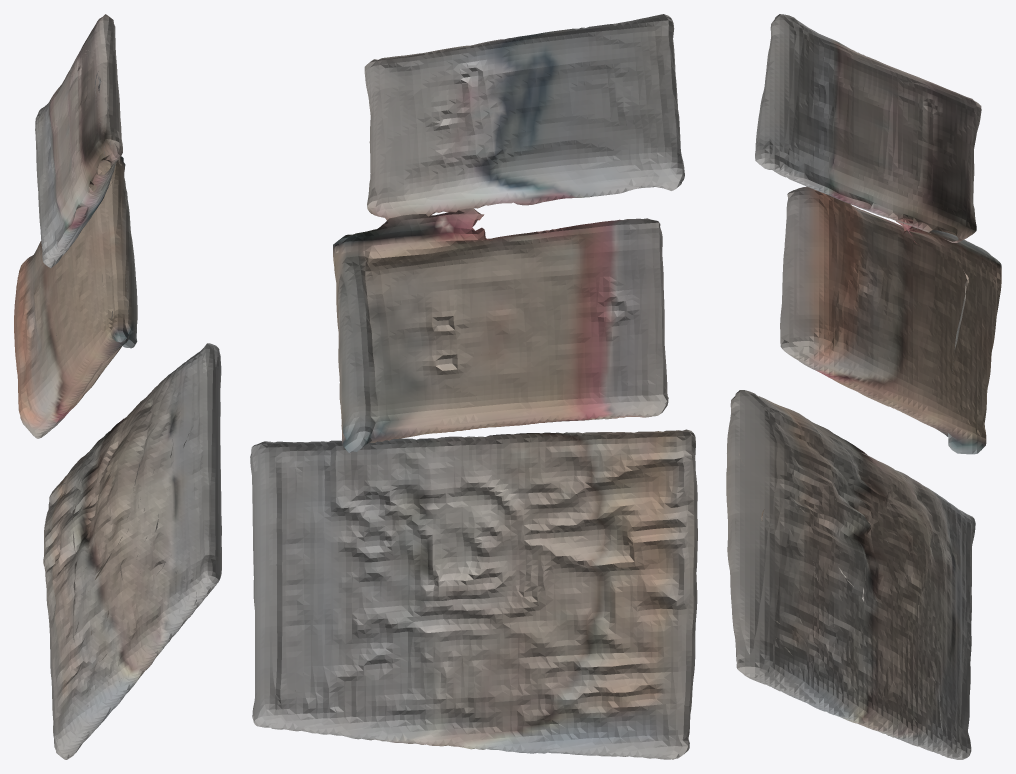
The picture shows the model from 3 angles, left to right: view 1: azimuth 30°, elevation 25°; view 2: azimuth 150°, elevation 25°; view 3: azimuth 270°, elevation 25°; orthographic projection. The views are drawn at different scales.
Parts seen in each view (by area): view 1: geometry_0; view 2: geometry_0; view 3: geometry_0.
Part boxes in pixels (x1,y1,x2,y2): geometry_0: (14,14,221,759); geometry_0: (250,14,697,759); geometry_0: (726,14,1001,759).
Size of the model in its own units: 0.445 by 1.01 by 0.3807.
